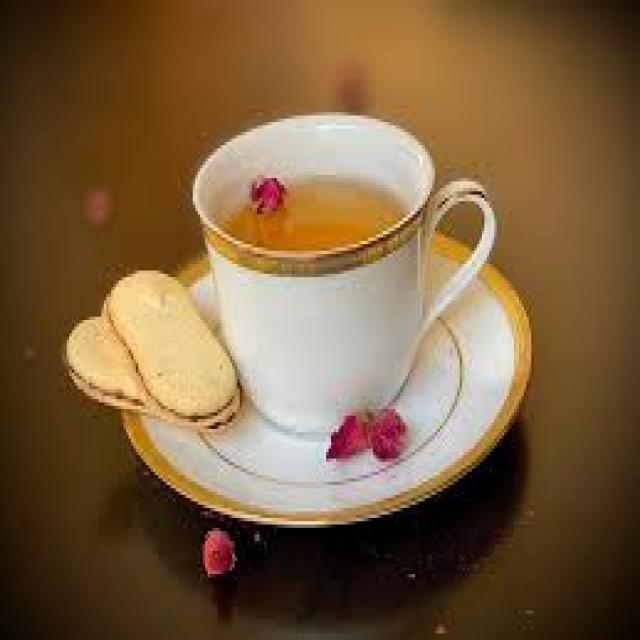taza: (174, 102, 503, 441)
